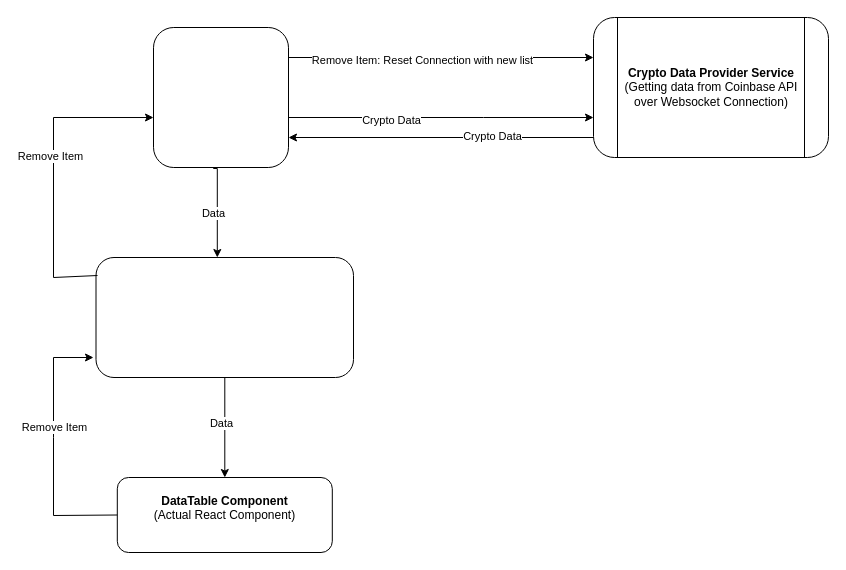
Image size: 846x570. Some labels were removed from this diagram. Here are the shapes that lost their labels. From the top down, the box of each, then its label:
(152, 26, 288, 168): Dashboard (Responsive webpage showing widgets)
(95, 256, 354, 378): DataTable-Wrapper Component (React Datatable Wrapper Component)
